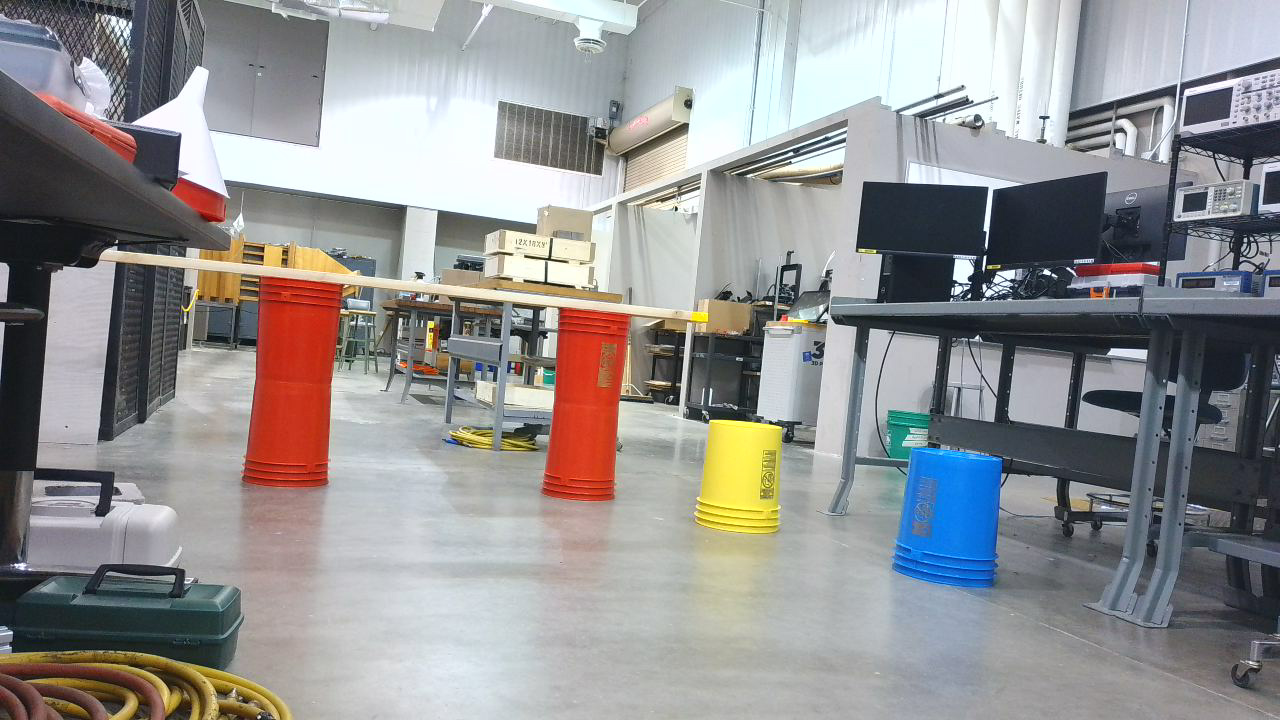blue_bucket: (892, 448, 1010, 598)
red_bucket_arch: (242, 276, 641, 515)
yellow_bucket: (697, 420, 791, 540)
